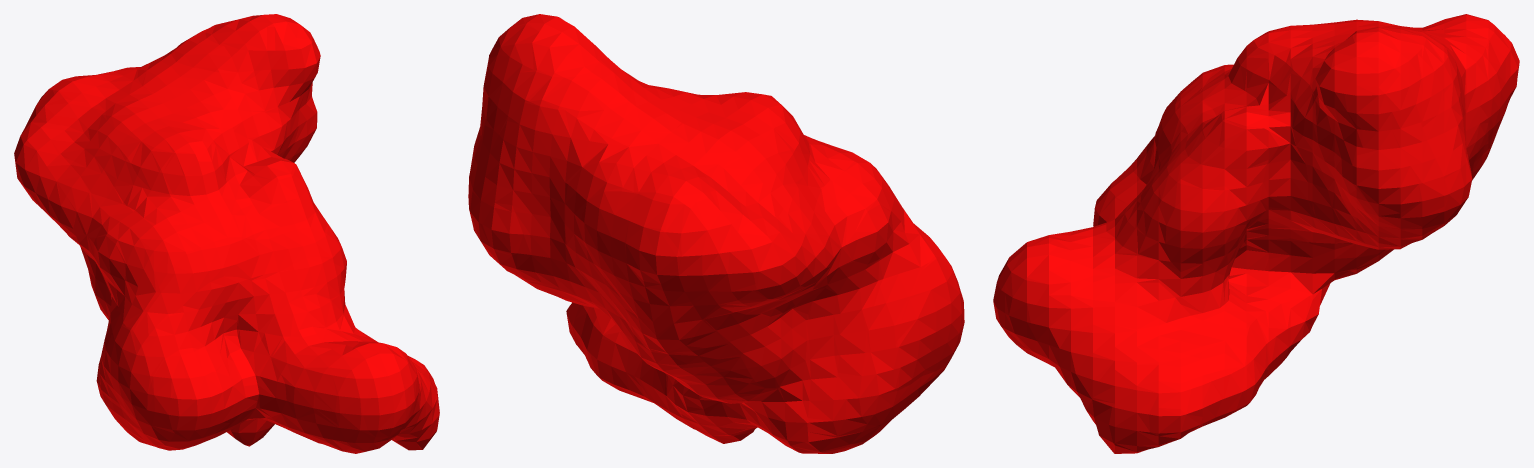
Rendered from hicB_coarse.dae.
3 renders of one model, left to right at view 1: azimuth 30°, elevation 25°; view 2: azimuth 150°, elevation 25°; view 3: azimuth 270°, elevation 25°, orthographic. The views are drawn at different scales.
Visible parts, largest first — view 1: hicB; view 2: hicB; view 3: hicB.
Boxes of the visible parts, <box> form: hicB: <box>14,14,439,453</box>; hicB: <box>468,14,964,453</box>; hicB: <box>993,14,1519,453</box>.
Bounding box in the file's own units: 41.78 × 47.21 × 55.96.
